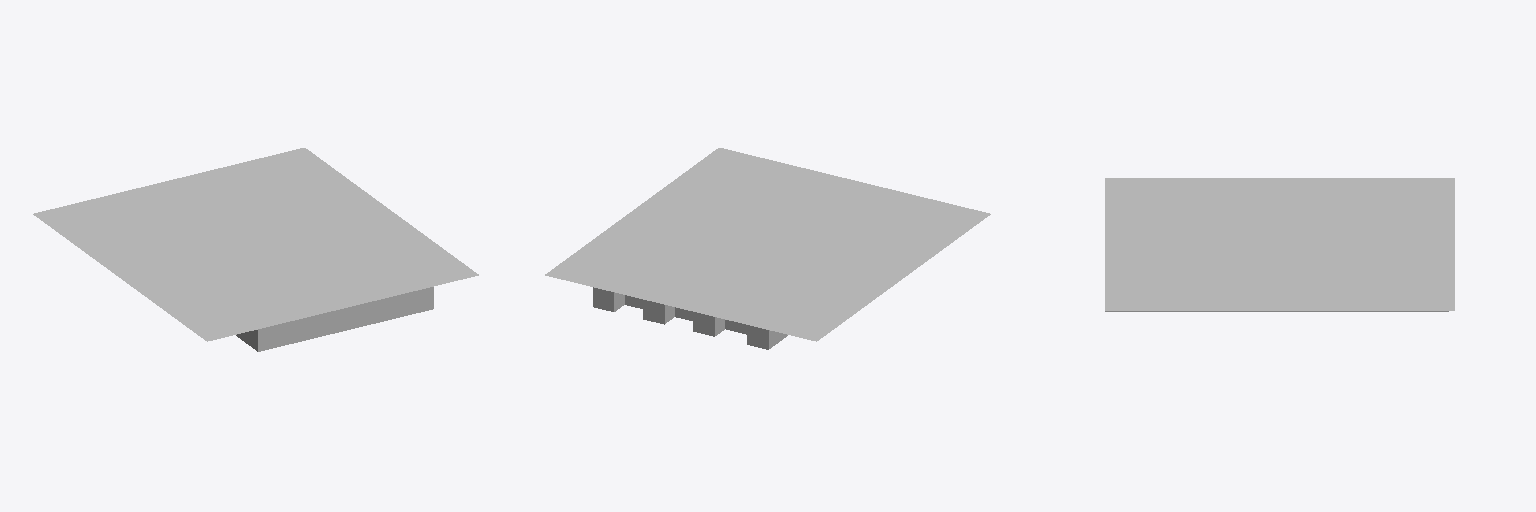
File: wgate.obj
3 views of the same model, side by side, from view 1: azimuth 30°, elevation 25°; view 2: azimuth 150°, elevation 25°; view 3: azimuth 270°, elevation 25° (orthographic).
Bounding box in the file's own units: 1.63 × 0.13 × 1.81.